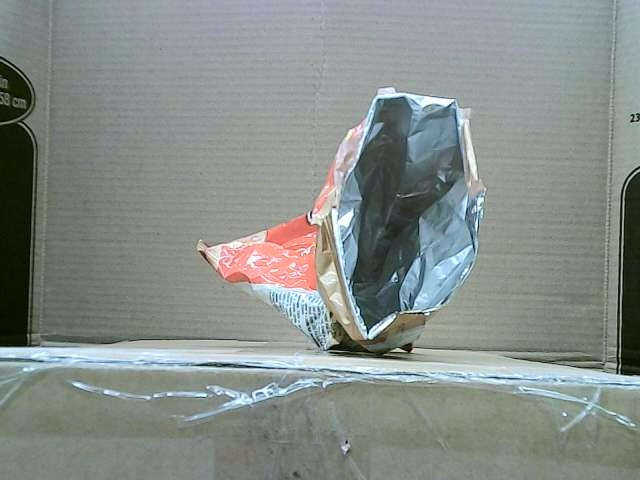Chips: (197, 87, 488, 356)
